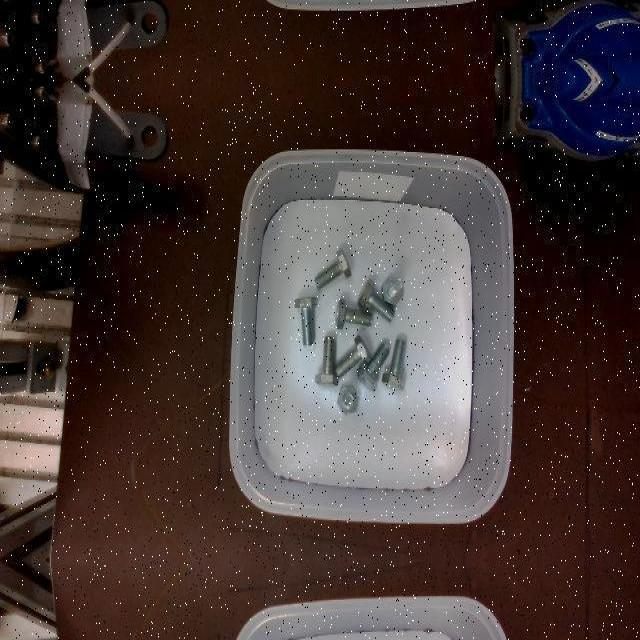screw: (357, 341, 390, 391), (314, 248, 351, 290), (357, 279, 394, 321), (335, 335, 372, 377), (381, 338, 408, 390), (314, 335, 339, 385), (335, 298, 372, 328), (294, 296, 317, 344), (336, 384, 360, 414), (381, 276, 404, 306)
